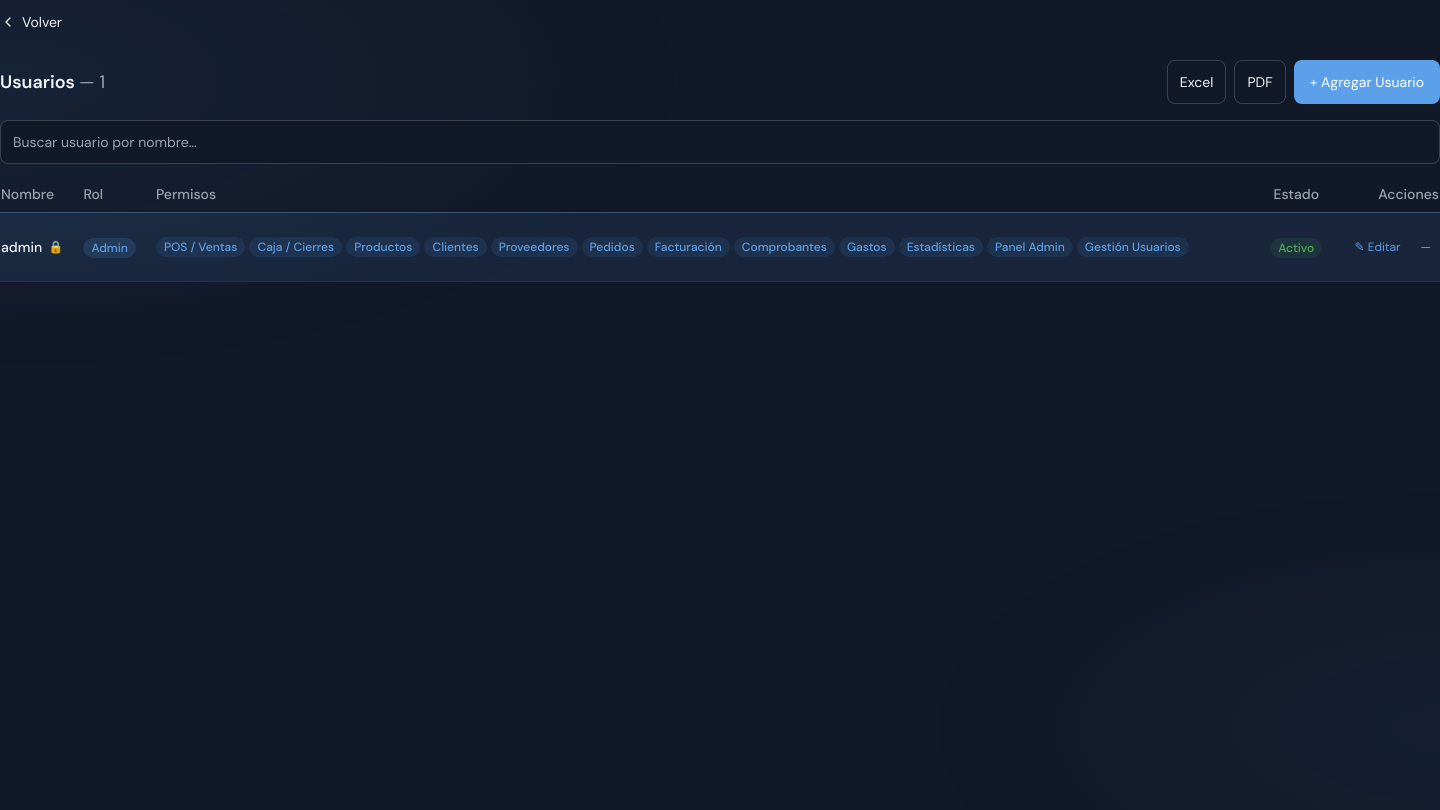
Scenario: UserManagementPage › edits user name successfully
This screenshot has width=1440, height=810.
Note: Two "✎ Editar" buttons exist (desktop table + mobile card) — click the first
Click the button with aria-label "editar admin" at (1377, 247), box [1346,225,1408,269]
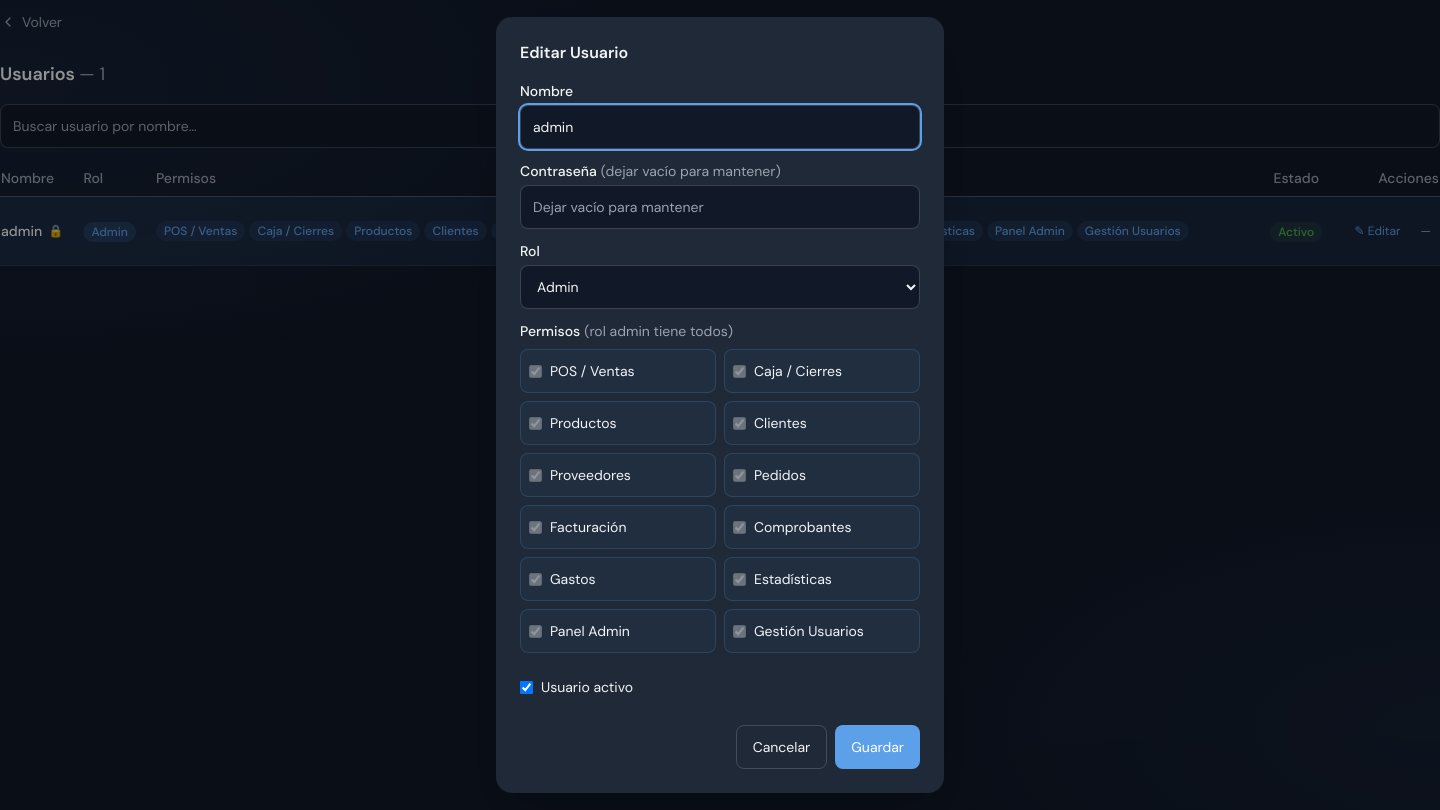
Replace the text in the field showing "admin" with "admin_mod" at (720, 127), box [520,105,920,149]
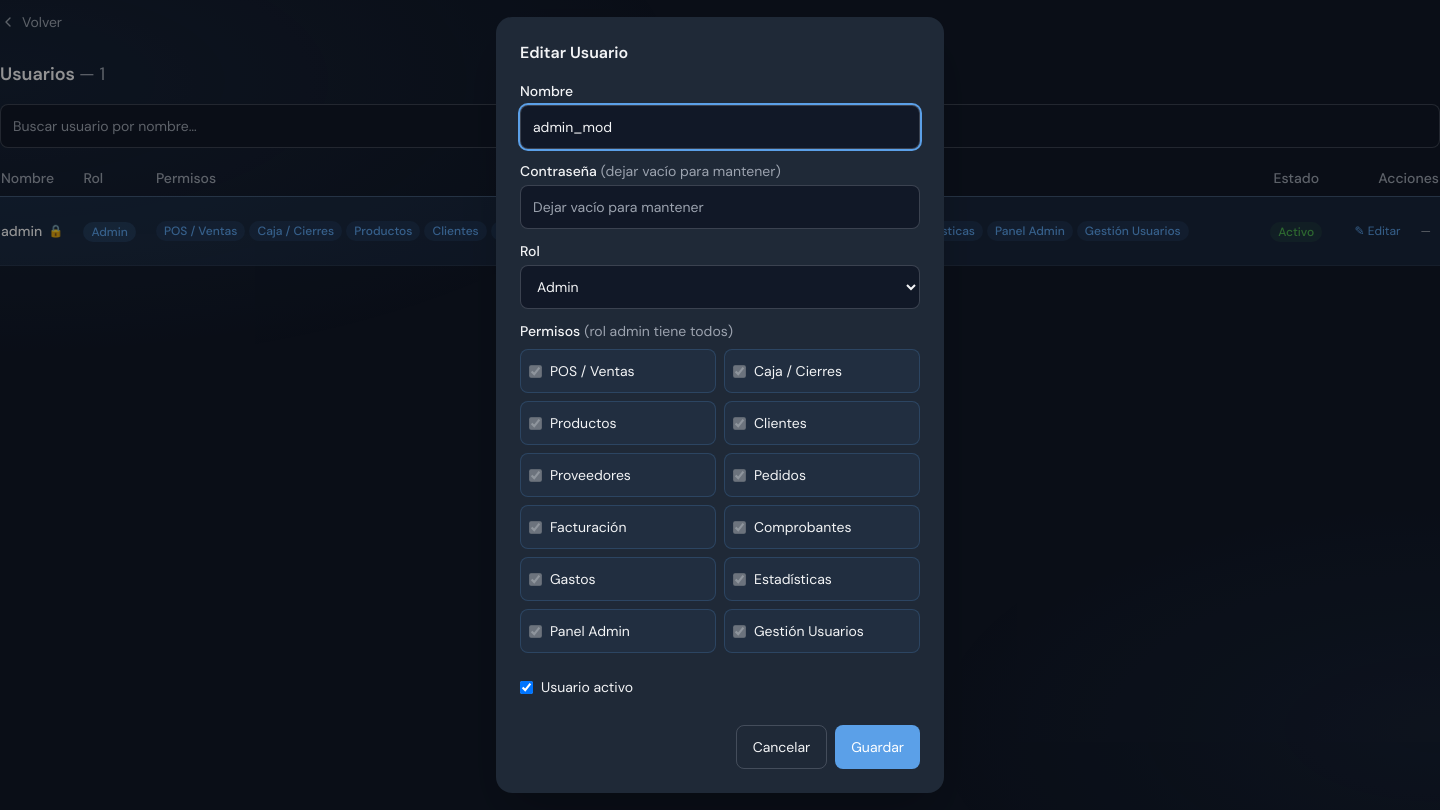
Click the button "Guardar" at (878, 747), box [835,725,920,769]
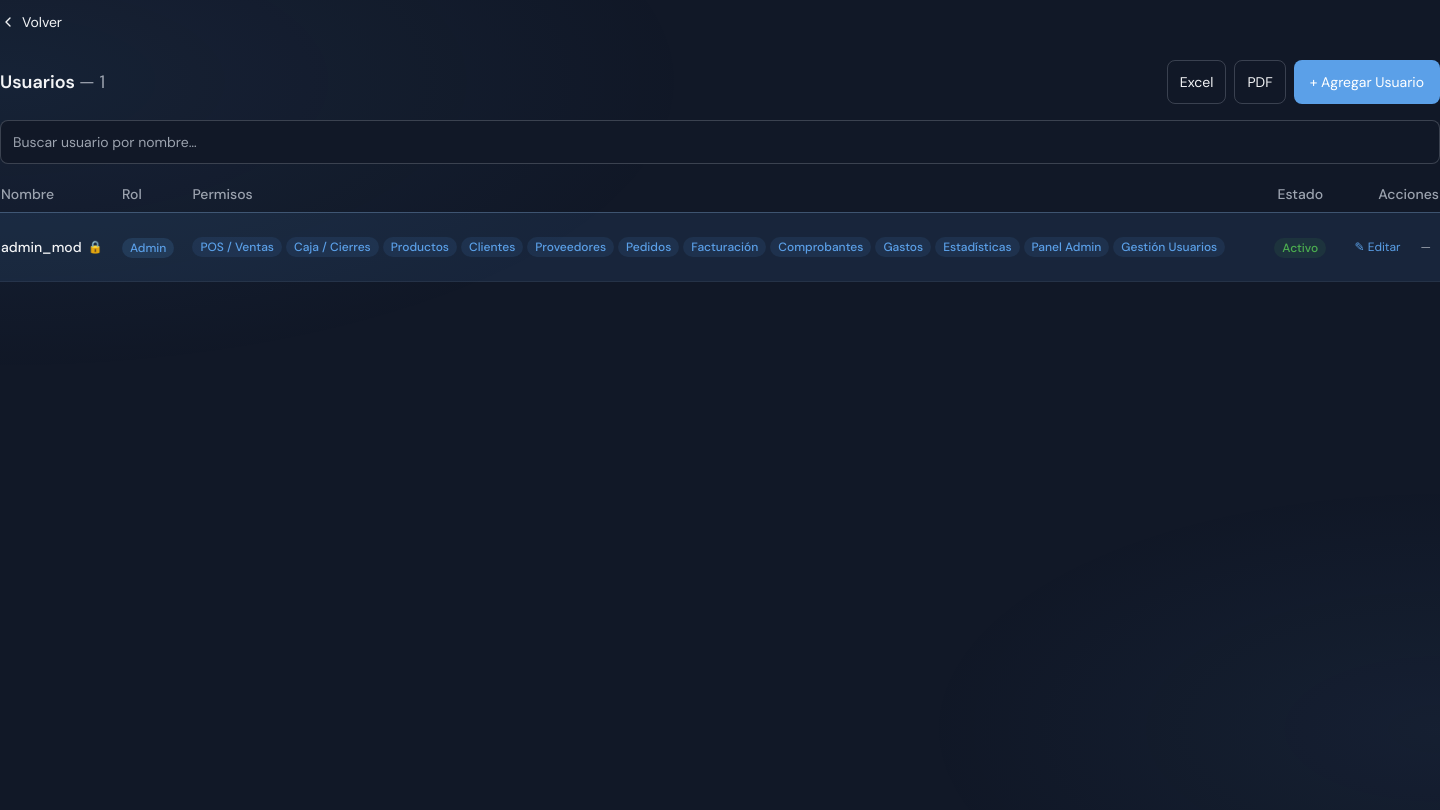
Now the text "admin_mod" is shown, box [1,238,82,256]
